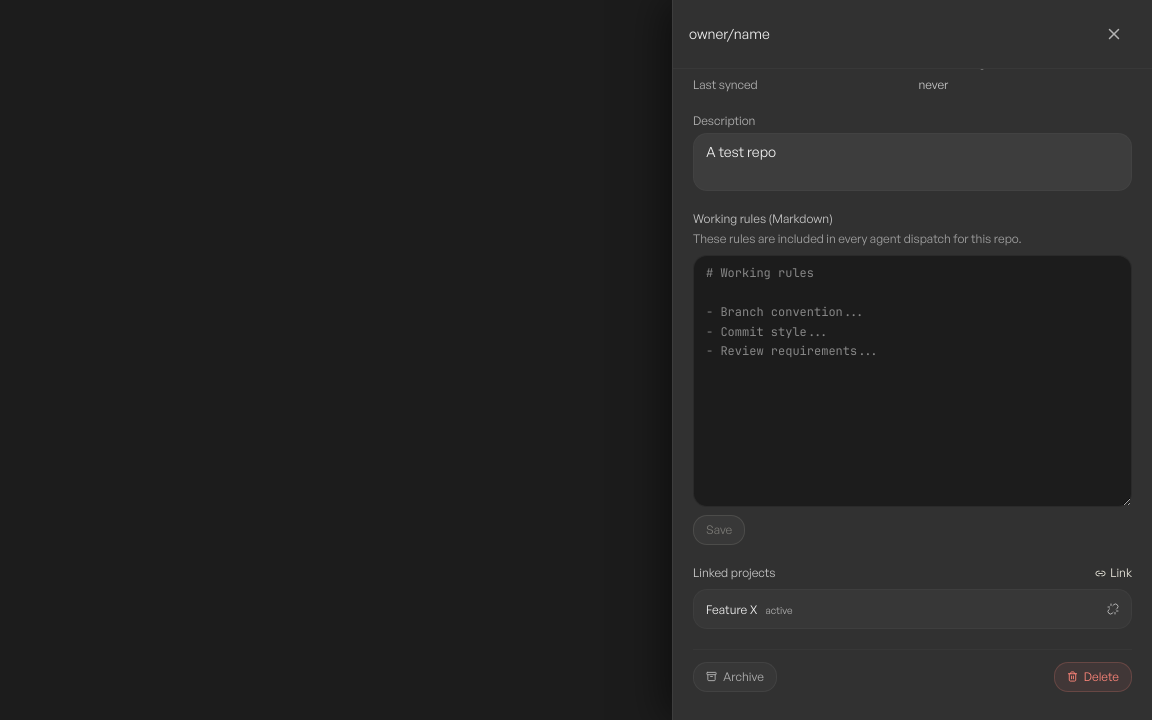
Test: RepoDetailPanel › shows the backend's 409 error text when delete is blocked by linked projects
(page scrolled)
Open the confirm dialog from the panel's danger zone
Click the button "Delete" at (1093, 677), box [1054, 662, 1132, 692]
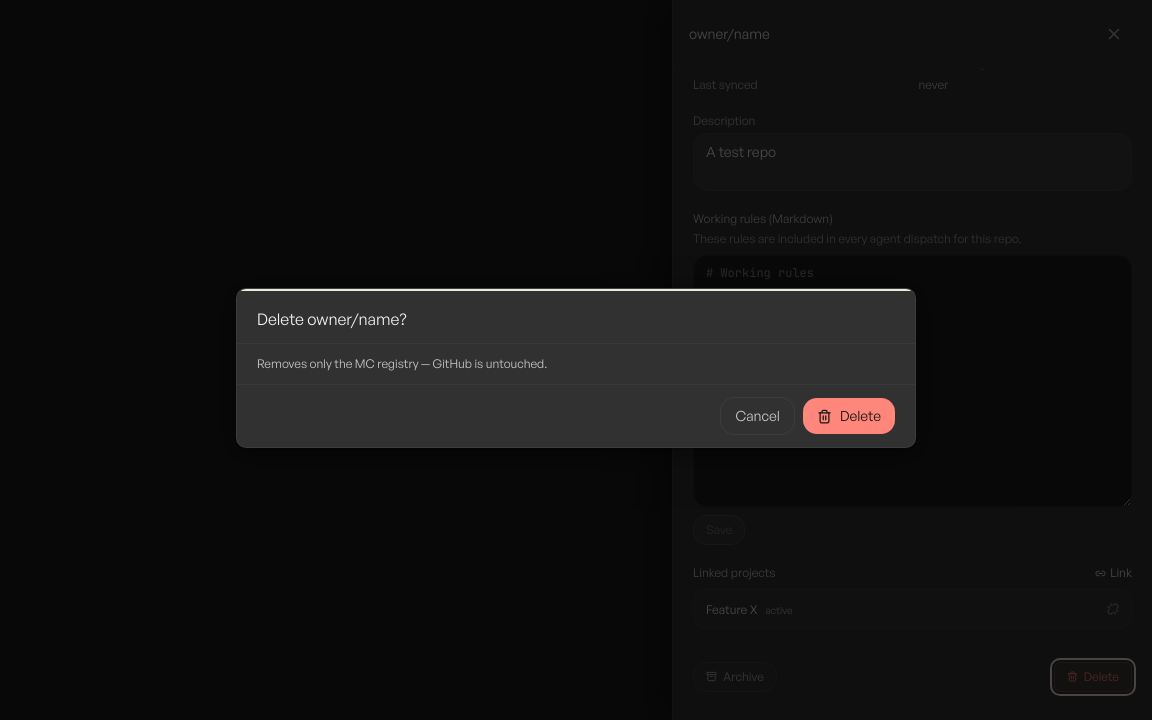
The confirm dialog renders its own "Delete" button after the panel's trigger
Click the button "Delete" at (849, 416), box [803, 398, 895, 434]
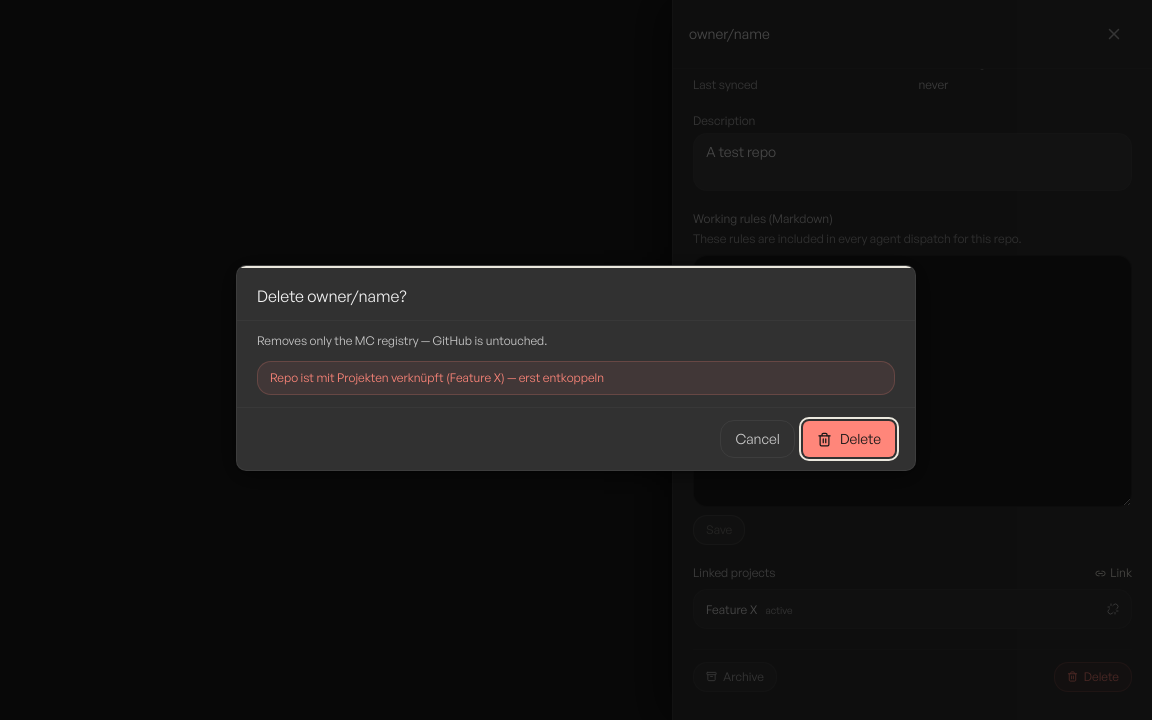
Expected: the text "Repo ist mit Projekten verknüpft (Feature X) — erst entkoppeln" is shown, [257, 361, 895, 395]
